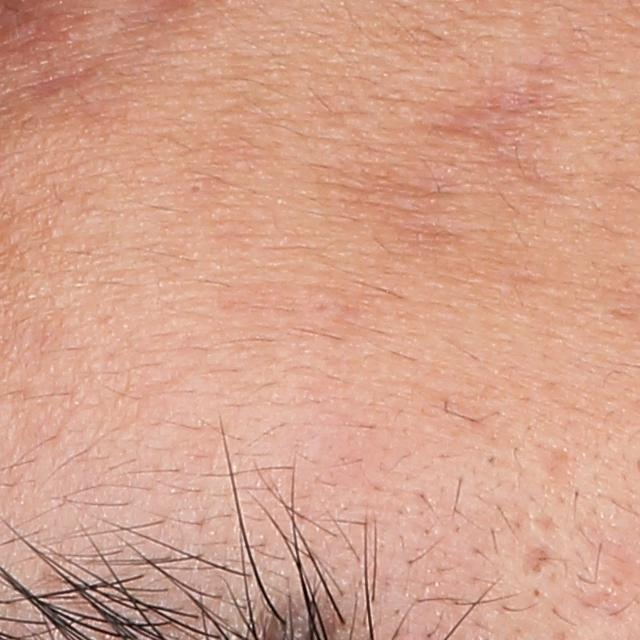atrophic_scar: (455, 60, 569, 190), (541, 447, 579, 495), (525, 546, 557, 576)
comedo: (188, 181, 205, 197)
